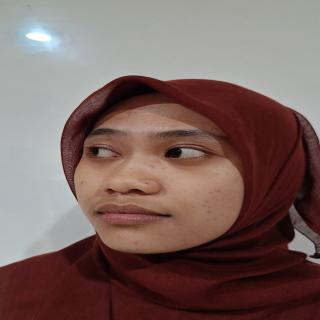Takut: (64, 91, 257, 262)
